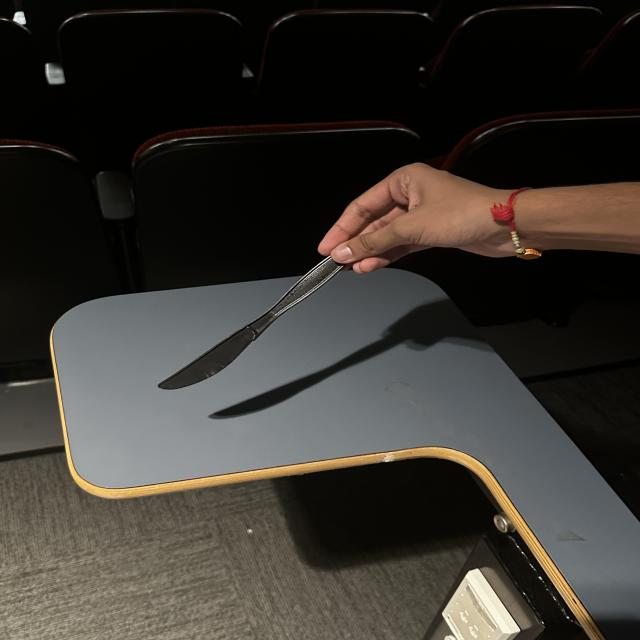knife: (144, 214, 417, 403)
